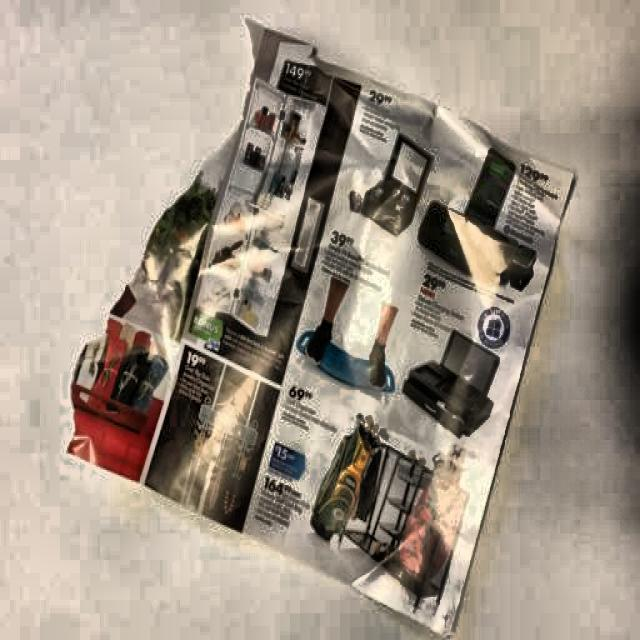paper: (69, 16, 580, 630)
